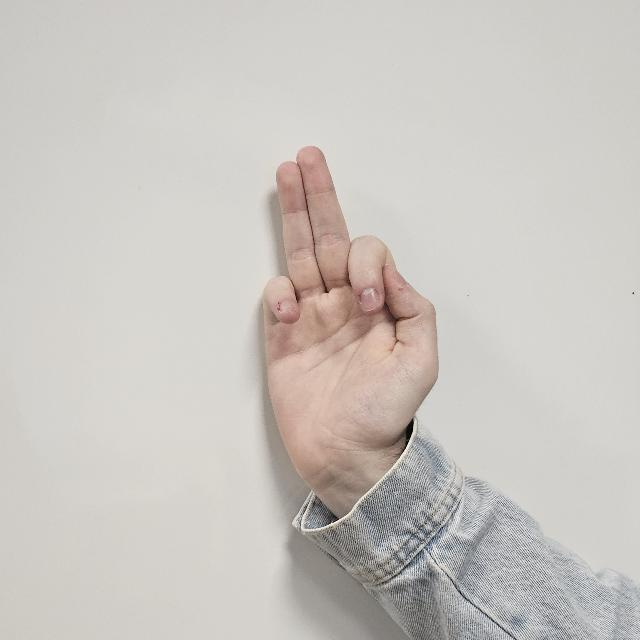R: (245, 141, 445, 471)
